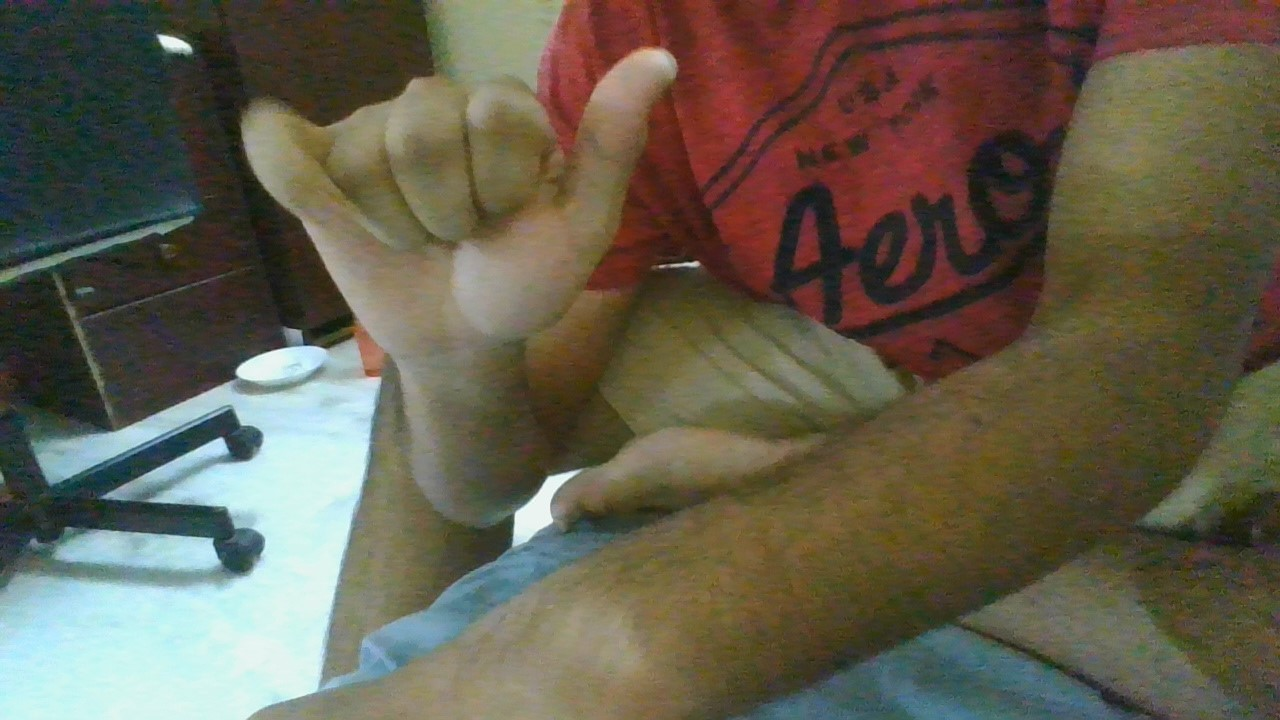y: (219, 39, 683, 357)
